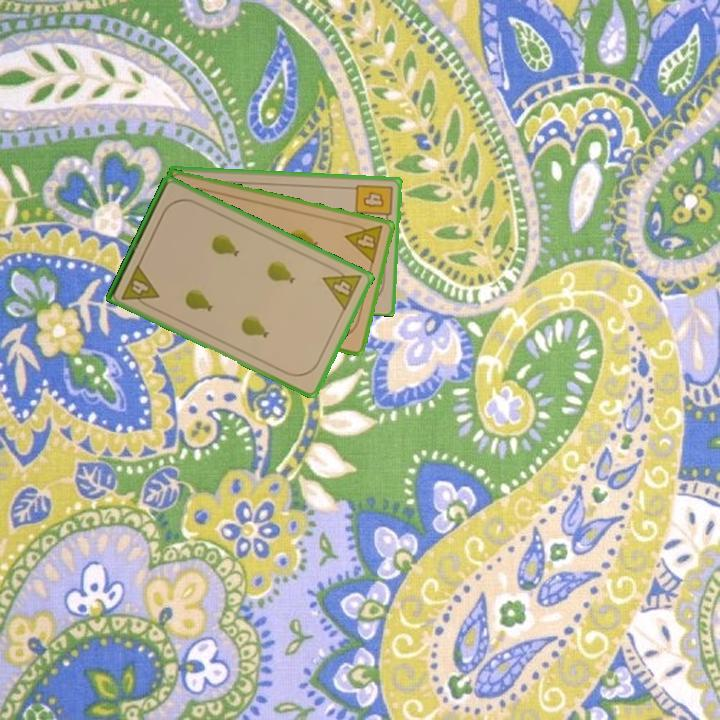4b: (352, 181, 395, 225)
4p: (319, 261, 365, 314), (118, 261, 162, 312), (342, 218, 386, 266)
